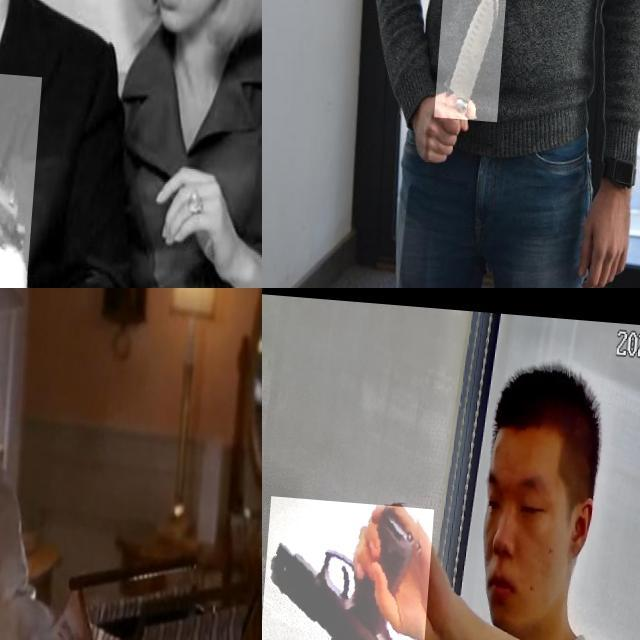-: (441, 0, 512, 116)
gun-knife-thesis - v11 Yolov5 augmented: (262, 494, 437, 640), (0, 63, 82, 288), (0, 288, 46, 535)
